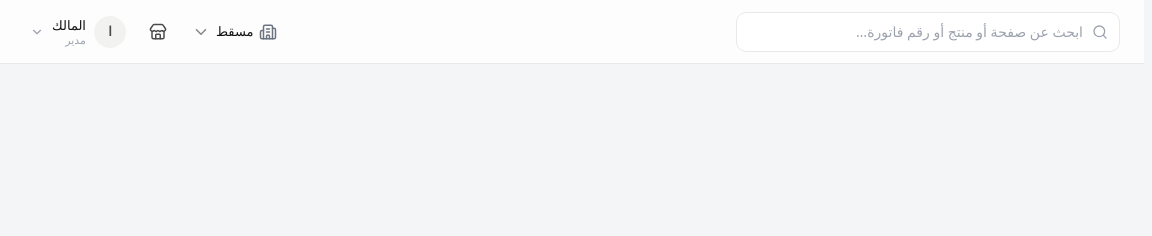
it: مبدّلُ الفرع في الشريط › ويفتح الفروعَ كلَّها ومعها «كل الفروع»
Click the button titled "الفرع" at (235, 32), box x1=184 y1=14 x2=286 y2=50
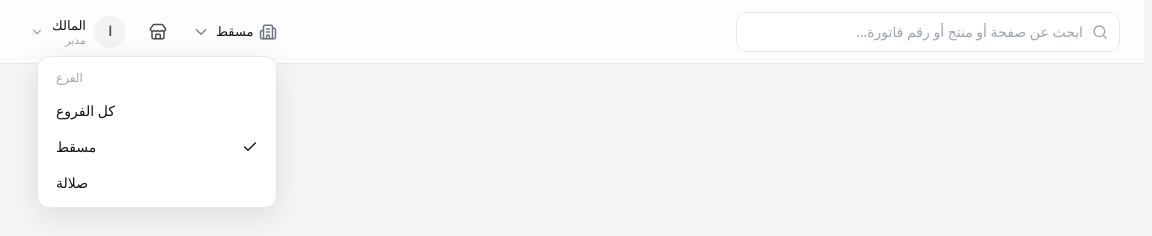
Expected: the text "كل الفروع" is shown, x1=56 y1=101 x2=115 y2=120
Expected: the text "مسقط" below "كل الفروع" is shown, x1=56 y1=137 x2=96 y2=156
Expected: the text "صلالة" is shown, x1=56 y1=173 x2=88 y2=192
